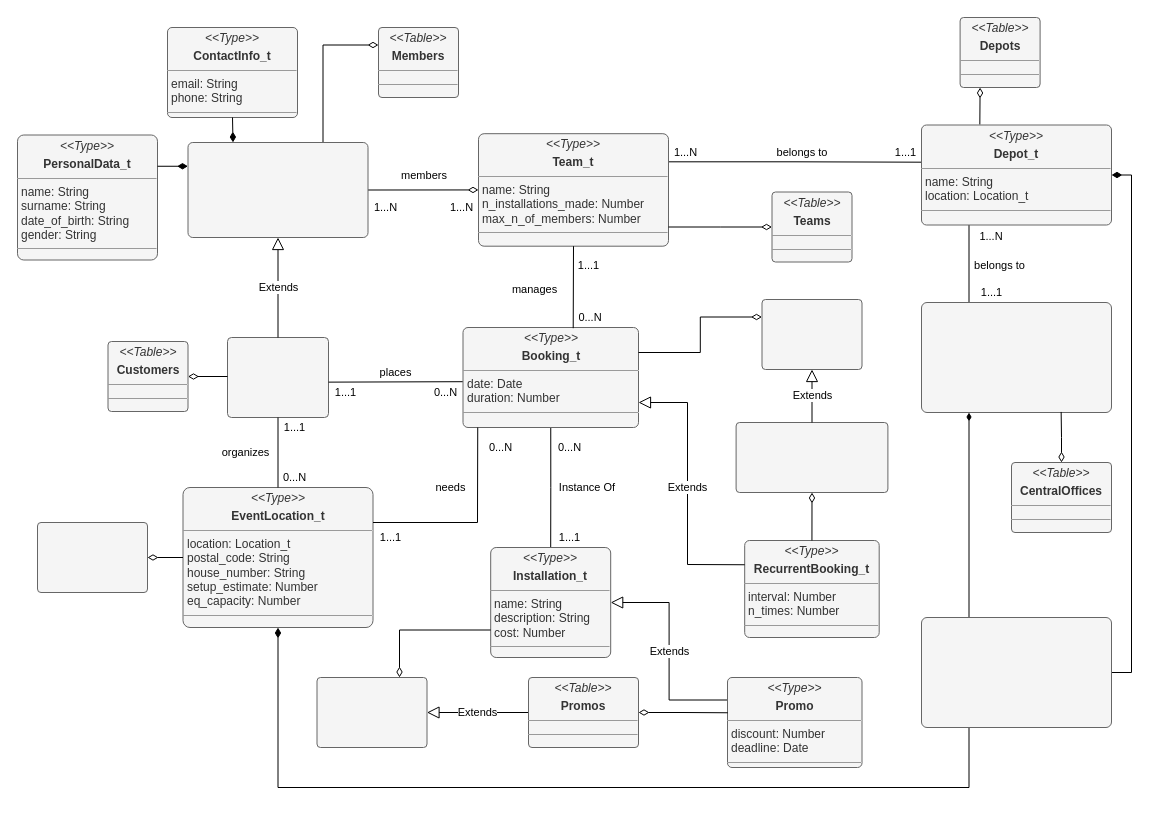
This 1159x815 diagram has some shape labels left out. Each missing label, with the centre of its shape:
<<Table>> Bookings: the point at 811,334
<<Table>> EventLocations: the point at 92,557
<<Table>> Installations: the point at 371,712
<<Table>> RecurrentBookings: the point at 811,457
<<Type>> CentralOffice_t name: String n_employees: Number location: Location_t: the point at 1016,357
<<Type>> Customer_t ctype: String: the point at 277,377
<<Type>> Location_t province: String city: String address: String: the point at 1016,672
<<Type>> Person_t personal_data: PersonalData_t contact_info: ContactInfo_t: the point at 277,190
